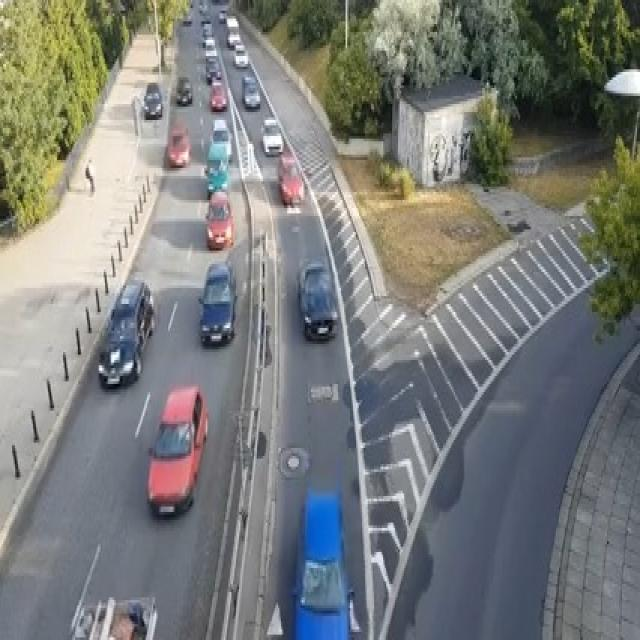bus: (290, 486, 361, 638)
car: (146, 384, 209, 517), (98, 277, 154, 387), (69, 595, 158, 637), (296, 259, 338, 341), (197, 261, 236, 344), (98, 317, 141, 387), (204, 189, 234, 248), (276, 155, 304, 205), (204, 142, 228, 198), (167, 126, 191, 166), (210, 117, 232, 160), (260, 117, 282, 155), (141, 80, 162, 117), (240, 75, 260, 109), (209, 80, 227, 109), (175, 75, 192, 104), (204, 56, 221, 83), (233, 42, 248, 66), (204, 34, 217, 59), (227, 29, 240, 48), (225, 13, 239, 30), (201, 22, 212, 38), (218, 8, 227, 21), (182, 11, 191, 24), (198, 0, 207, 13), (200, 16, 210, 24)
